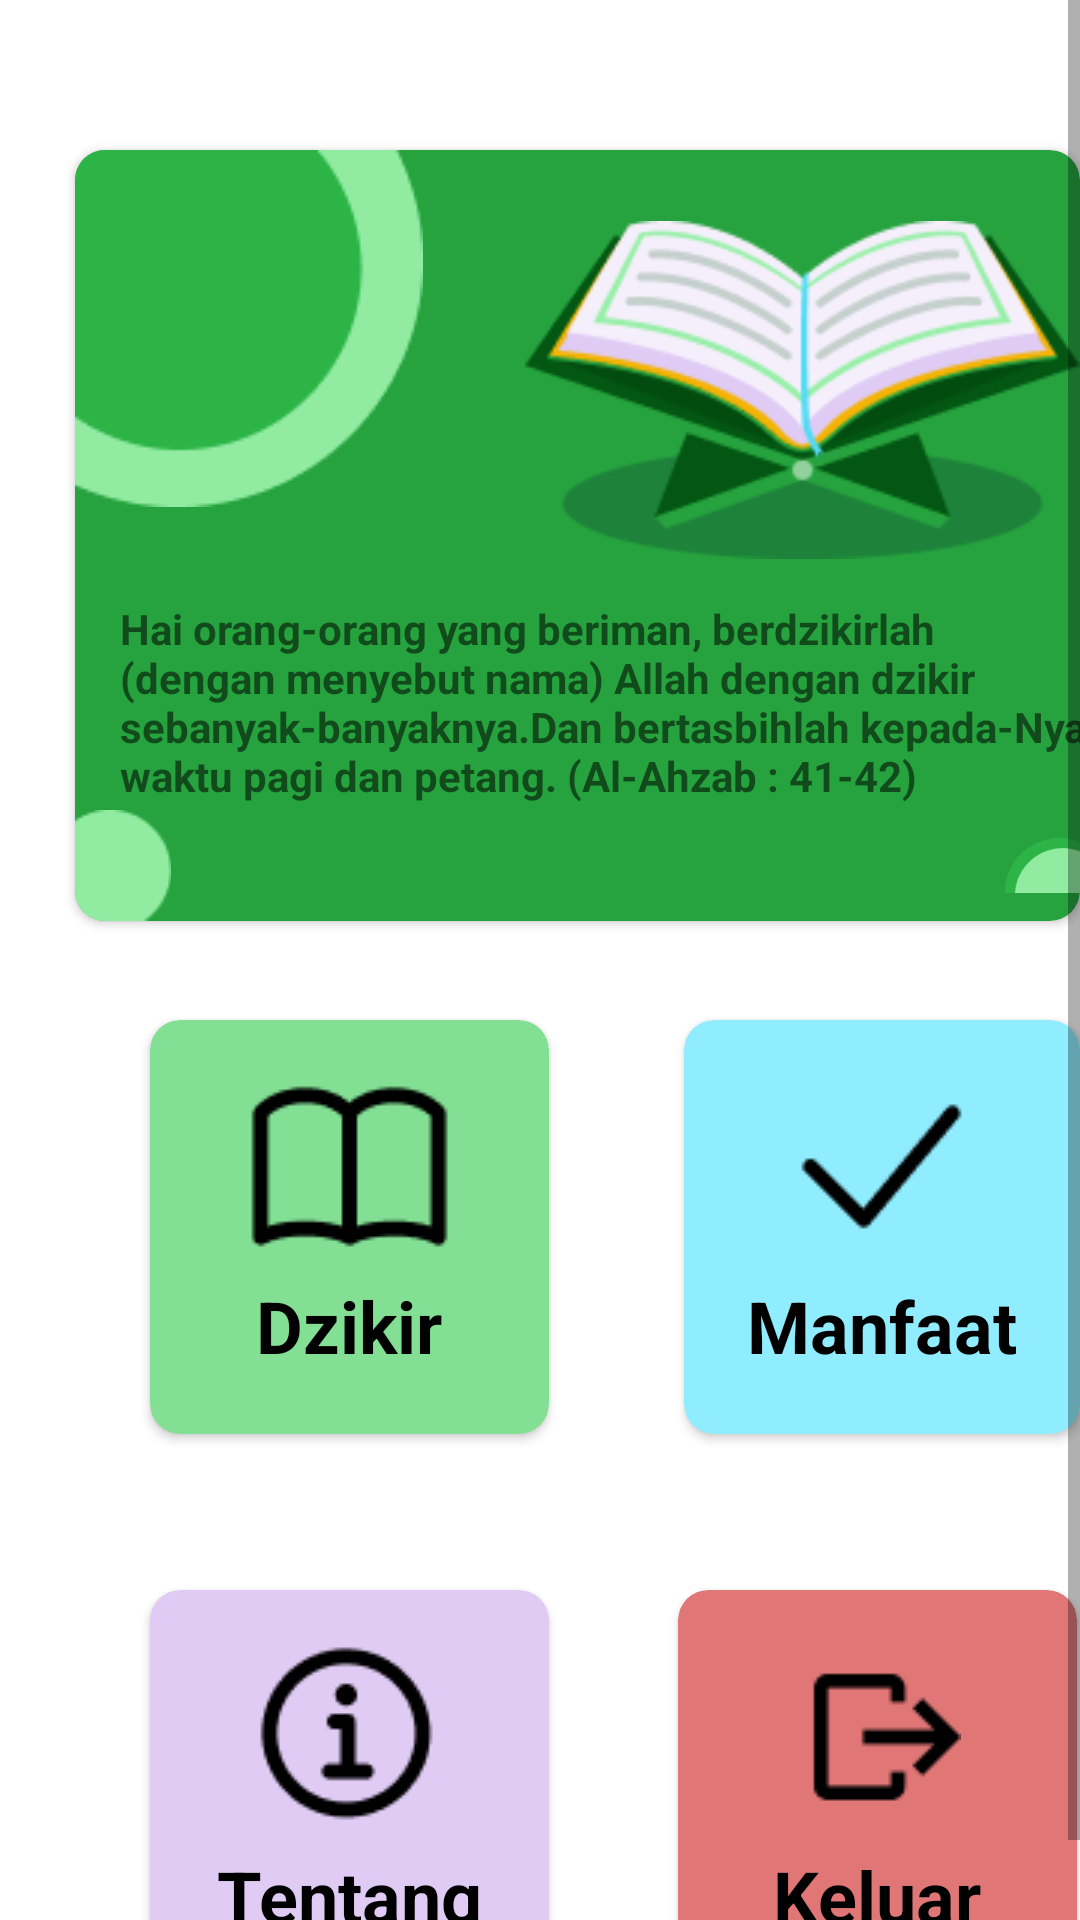

Locate icon controls on the screen. Image size 1080×1920, boxes as (x1, y1, x2, y2).
abt: (260, 1647, 433, 1820)
out: (813, 1673, 961, 1801)
